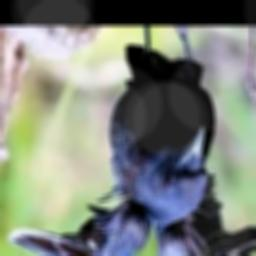Crow: (6, 26, 256, 256)
